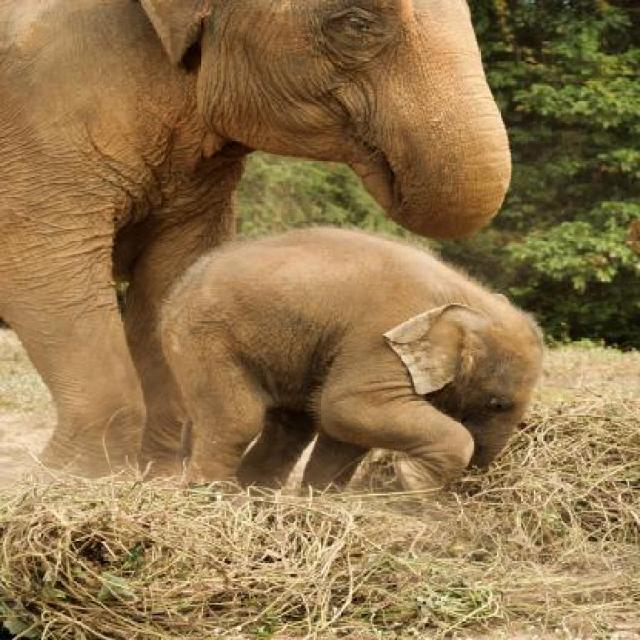Elephant: (0, 0, 532, 471), (152, 221, 554, 510)
